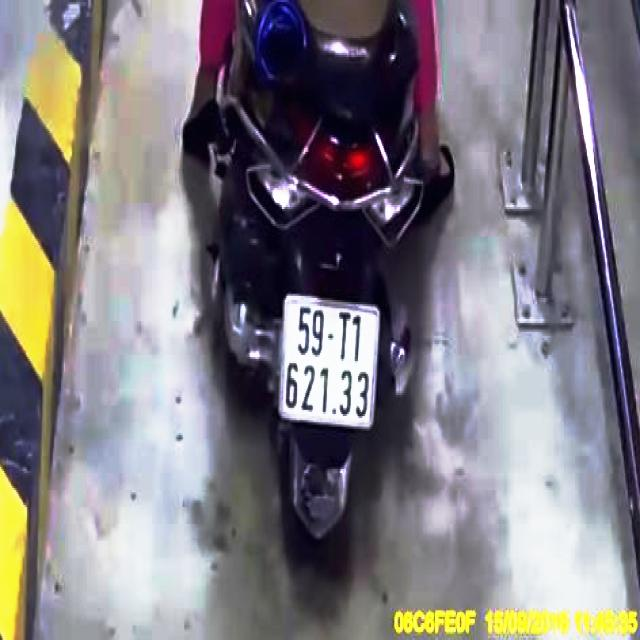license_plate: (283, 298, 379, 430)
